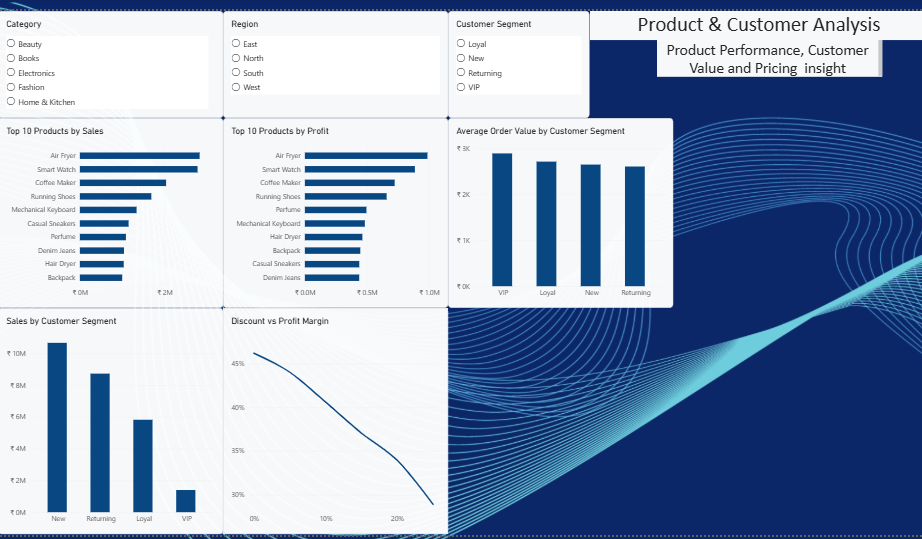

The page's visual inventory and layout, read from the dashboard file:
{"tool":"powerbi","page":{"name":"Product & Customer Analysis","canvas":[1920,1080],"ordinal":1},"visuals":[{"type":"clusteredBarChart","title":"Top 10 Products by Sales","fields":{"Category":["Orders.Product"],"Y":["Orders.Total Sales"]},"box":[0,220.9,464.5,392.3],"z":0},{"type":"clusteredBarChart","title":"Top 10 Products by Profit","fields":{"Category":["Orders.Product"],"Y":["Orders.Total Profit"]},"box":[464.5,220.9,464.5,392.3],"z":1000},{"type":"clusteredColumnChart","title":"Sales by Customer Segment","fields":{"Category":["Orders.Customer Segment"],"Y":["Orders.Total Sales"]},"box":[0,613.2,464.5,466.6],"z":2000},{"type":"clusteredColumnChart","title":"Average Order Value by Customer Segment","fields":{"Category":["Orders.Customer Segment"],"Y":["Orders.Average Order Value"]},"box":[929,220.9,464.5,392.3],"z":3000},{"type":"lineChart","title":"Discount vs Profit Margin","fields":{"Category":["Orders.Discount %"],"Y":["Orders.Profit Margin"]},"box":[464.5,613.2,464.5,466.6],"z":4000},{"type":"textbox","box":[1222.2,0,697.8,59.9],"z":4001},{"type":"textbox","box":[1360.5,59.9,464.5,76.4],"z":4002},{"type":"listSlicer","fields":{"Values":["Orders.Category"]},"box":[0,0,464.5,220.9],"z":4003},{"type":"listSlicer","fields":{"Values":["Orders.Region"]},"box":[465,0,465,221],"z":4004},{"type":"listSlicer","fields":{"Values":["Orders.Customer Segment"]},"box":[930,0,292,221],"z":4005}]}

Visuals, with their boxes on the page's 1920x1080 design canvas (x1, y1, x2, y2). These are canvas units, not pixel positions in the 922x539 screenshot, which may show the page scaled, cropped or inside an application window:
"Top 10 Products by Sales" clusteredBarChart: [left=0, top=221, right=464, bottom=613]
"Top 10 Products by Profit" clusteredBarChart: [left=464, top=221, right=929, bottom=613]
"Sales by Customer Segment" clusteredColumnChart: [left=0, top=613, right=464, bottom=1080]
"Average Order Value by Customer Segment" clusteredColumnChart: [left=929, top=221, right=1394, bottom=613]
"Discount vs Profit Margin" lineChart: [left=464, top=613, right=929, bottom=1080]
textbox: [left=1222, top=0, right=1920, bottom=60]
textbox: [left=1360, top=60, right=1825, bottom=136]
listSlicer - Orders.Category: [left=0, top=0, right=464, bottom=221]
listSlicer - Orders.Region: [left=465, top=0, right=930, bottom=221]
listSlicer - Orders.Customer Segment: [left=930, top=0, right=1222, bottom=221]
